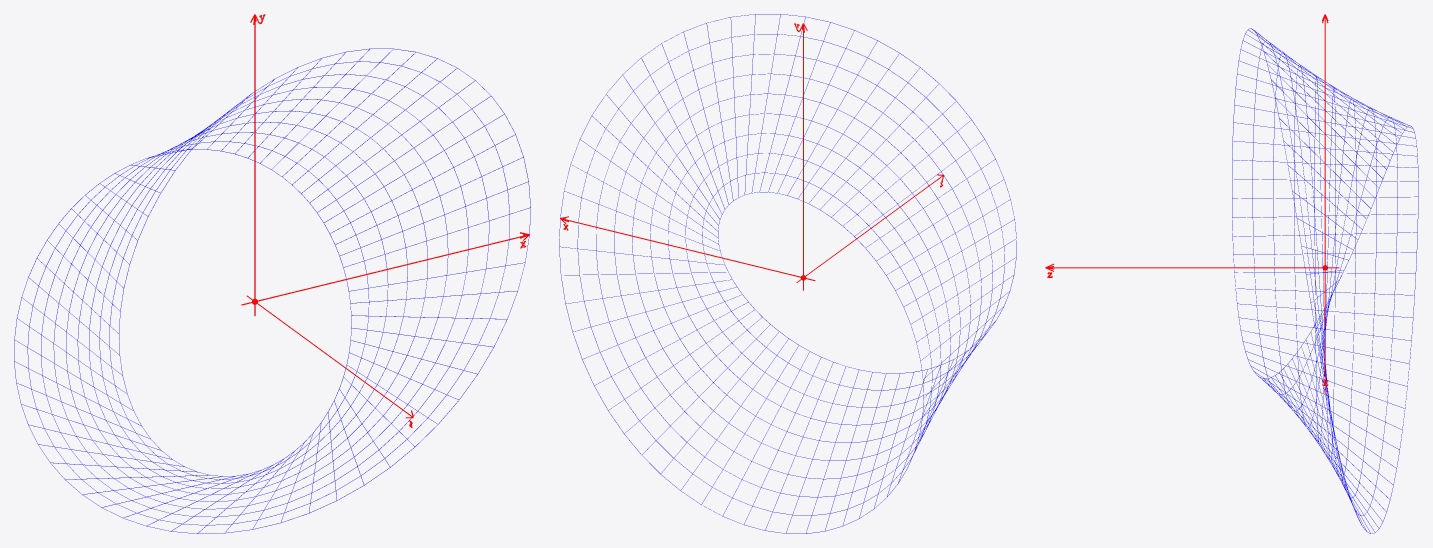
Rendered from MobiusStripWithCoods.glb.
3 views of the same model, side by side, from view 1: azimuth 30°, elevation 25°; view 2: azimuth 150°, elevation 25°; view 3: azimuth 270°, elevation 25° (orthographic). The views are drawn at different scales.
Size of the model in its own units: 1.69 by 1.91 by 1.33.
